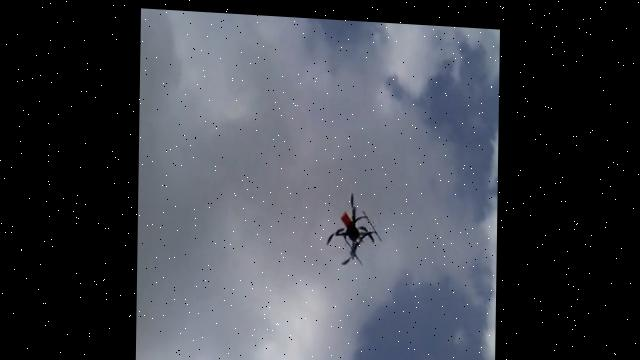drone: (323, 183, 382, 262)
